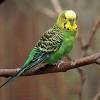budgie: (9, 10, 77, 80)
